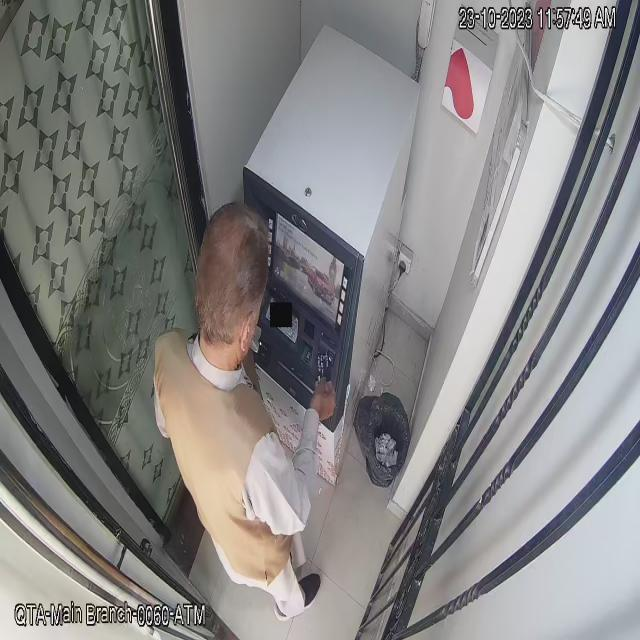atm-card: (313, 346, 336, 386)
